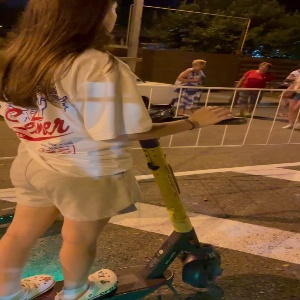human on a scooter: (1, 1, 248, 300)
